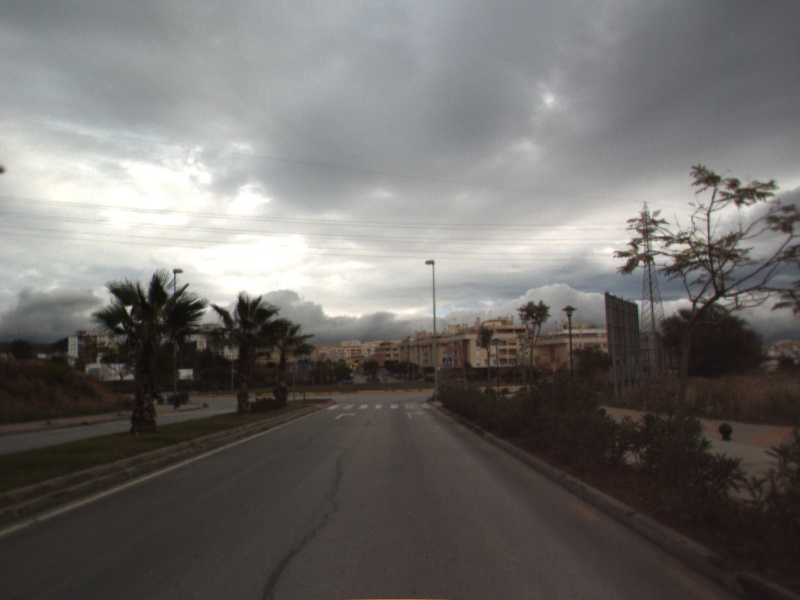RIGHT: (333, 410, 358, 421), (405, 409, 427, 420)
